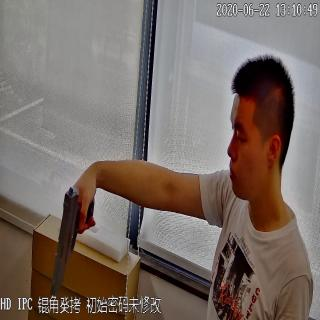gun: (48, 180, 96, 298)
